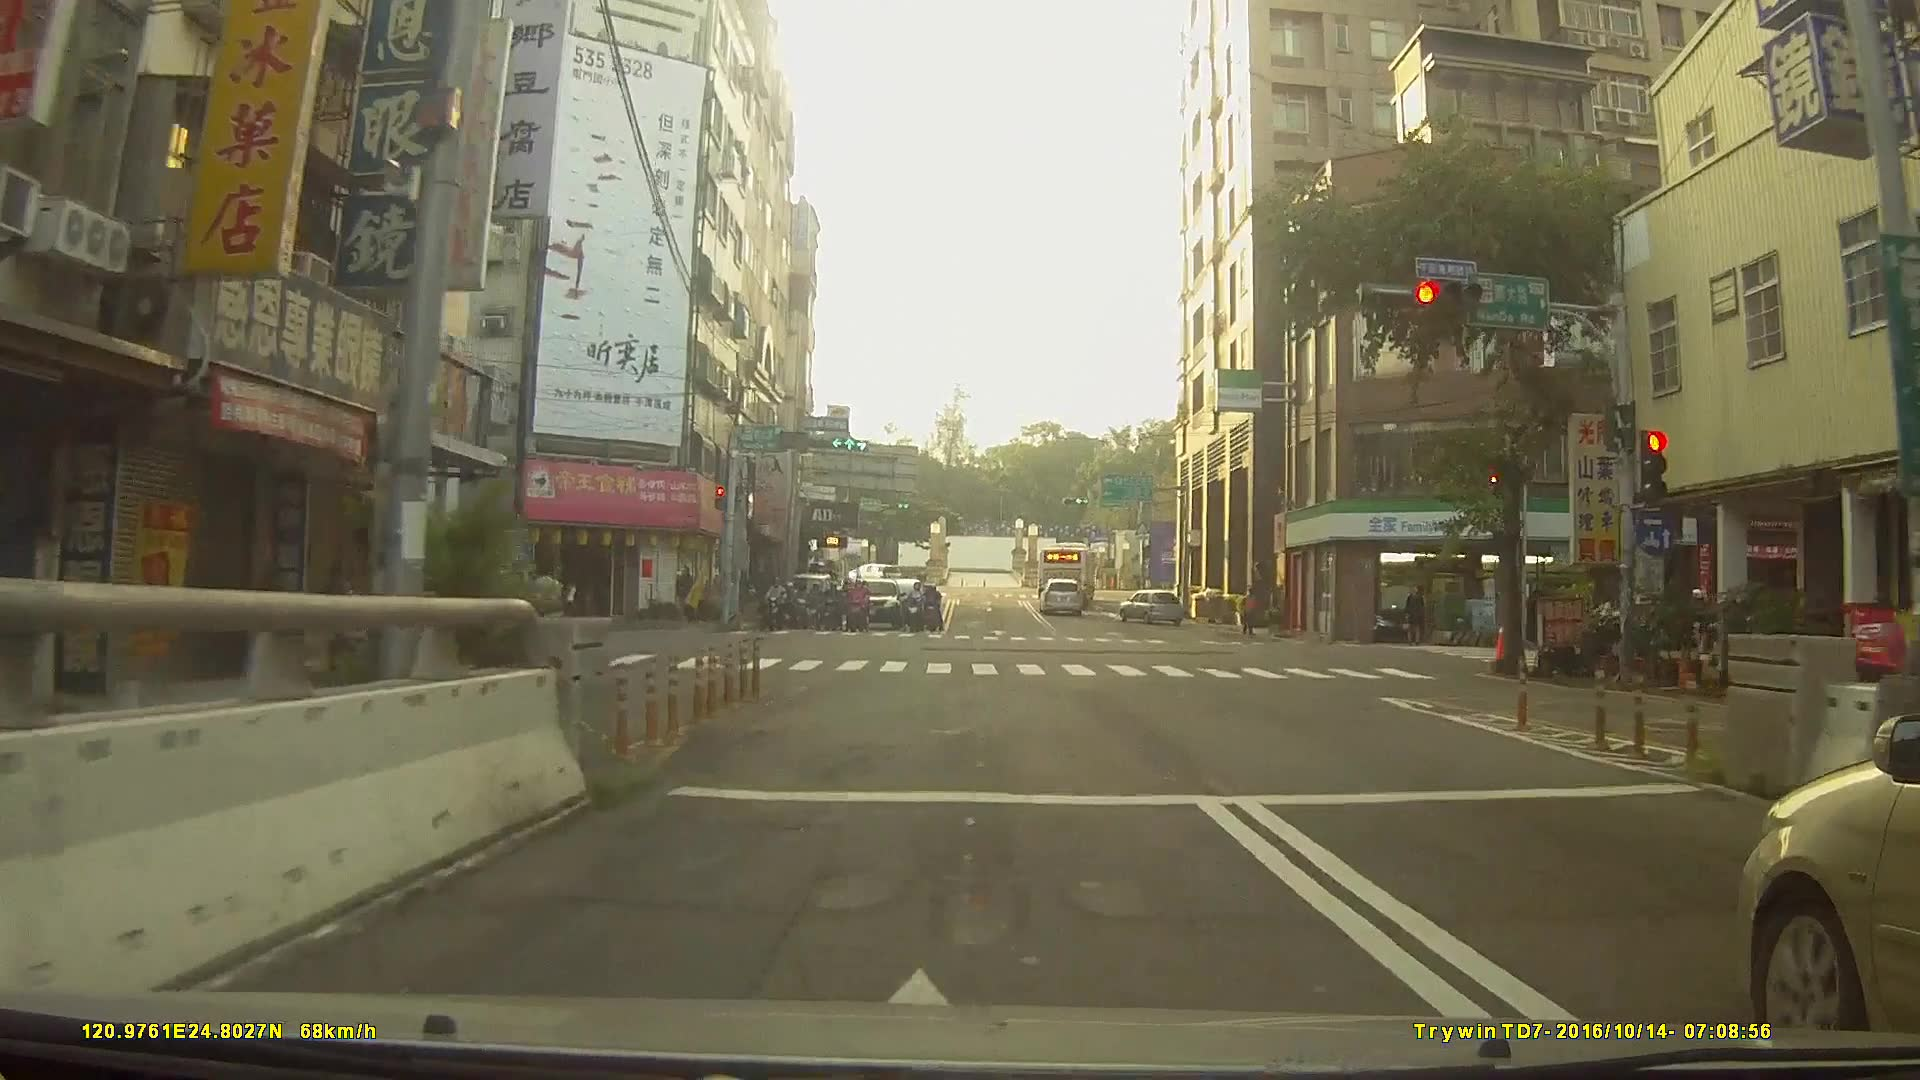pedestrian: (525, 563, 566, 659), (1396, 584, 1423, 645), (1239, 588, 1260, 638), (563, 579, 583, 618)
rider: (761, 573, 790, 631), (844, 580, 871, 633), (822, 580, 846, 635), (792, 582, 816, 630), (904, 583, 926, 634), (921, 591, 942, 641)
vehicle: (1739, 702, 1920, 1056), (1035, 541, 1098, 597), (845, 579, 903, 636), (1116, 586, 1184, 623), (1037, 577, 1086, 614), (843, 560, 902, 589)
